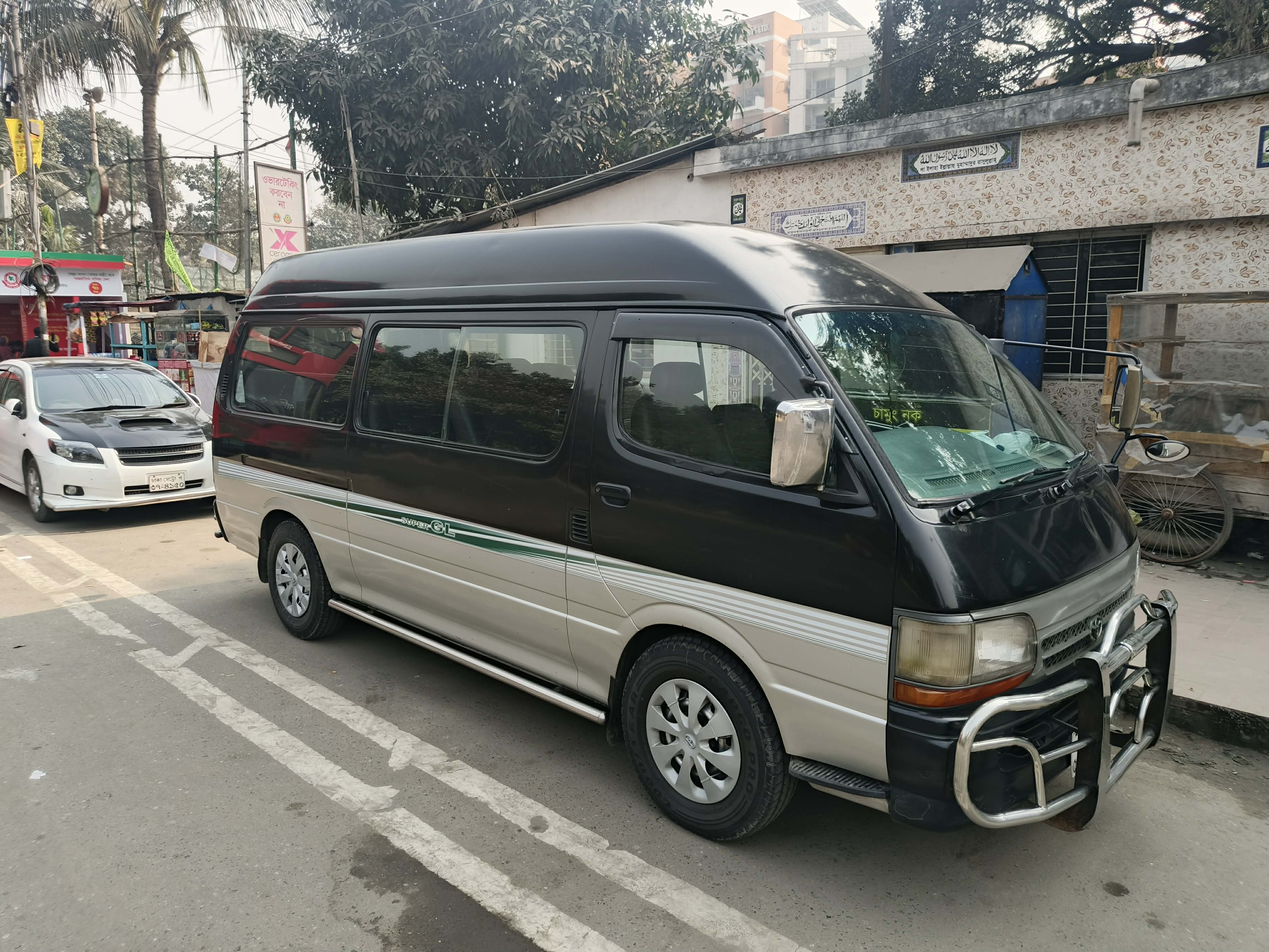private car: (203, 216, 1267, 818), (3, 333, 220, 544)
